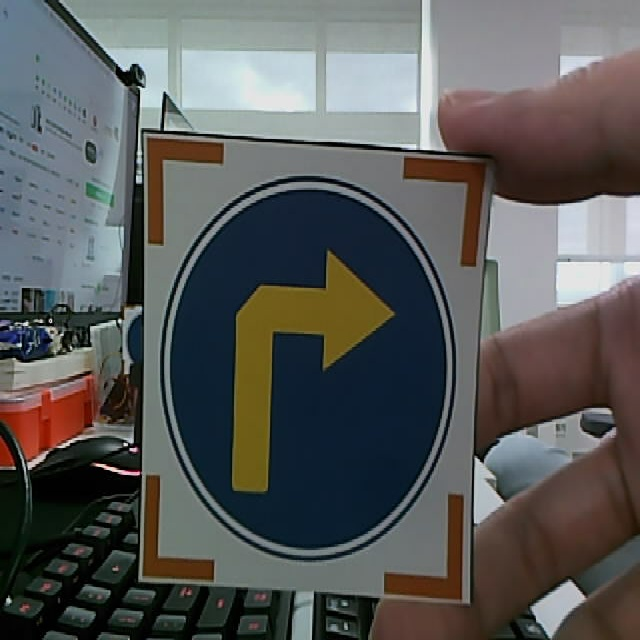right: (135, 128, 499, 604)
